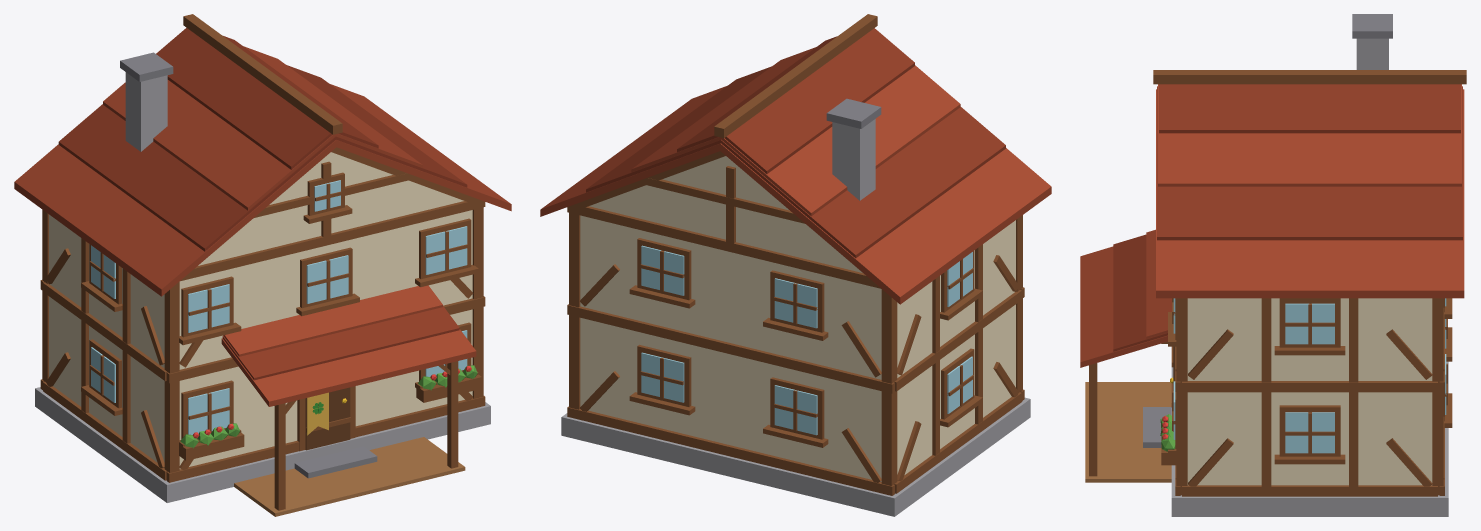
The model's file is prop-chief-house.glb.
3 renders of one model, left to right at view 1: azimuth 30°, elevation 25°; view 2: azimuth 150°, elevation 25°; view 3: azimuth 270°, elevation 25°, orthographic. The views are drawn at different scales.
Parts seen in each view (by area): view 1: ChiefHouse; view 2: ChiefHouse; view 3: ChiefHouse.
Part boxes in pixels (box(x1,y1,x2,y2)): ChiefHouse: box(14, 14, 511, 516); ChiefHouse: box(540, 14, 1051, 516); ChiefHouse: box(1080, 14, 1466, 516).
Bounding box in the file's own units: 8.1 × 7.76 × 7.4.
